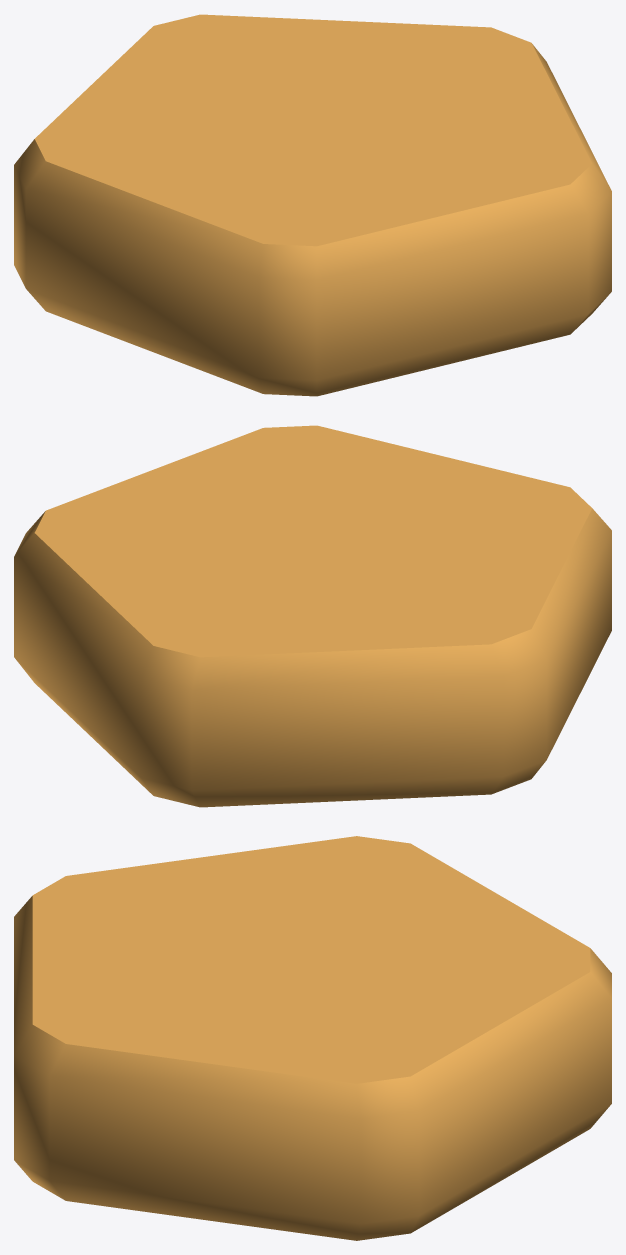
The model's file is Pentagon_01.fbx.
3 renders of one model, top to bottom at view 1: azimuth 30°, elevation 25°; view 2: azimuth 150°, elevation 25°; view 3: azimuth 270°, elevation 25°, orthographic. The views are drawn at different scales.
Parts seen in each view (by area): view 1: Pentagon_01; view 2: Pentagon_01; view 3: Pentagon_01.
Boxes of the visible parts, x1=… form: Pentagon_01: x1=14, y1=14, x2=611, y2=396; Pentagon_01: x1=14, y1=425, x2=611, y2=807; Pentagon_01: x1=14, y1=836, x2=611, y2=1240.
Bounding box in the file's own units: 363 × 100 × 345.
